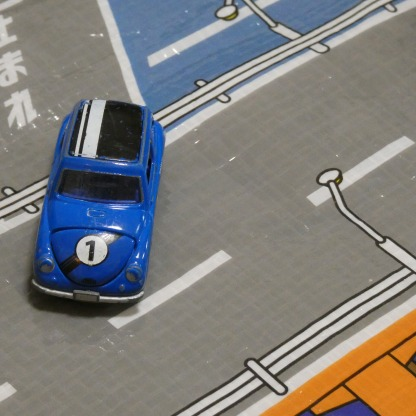car: (30, 99, 164, 304)
